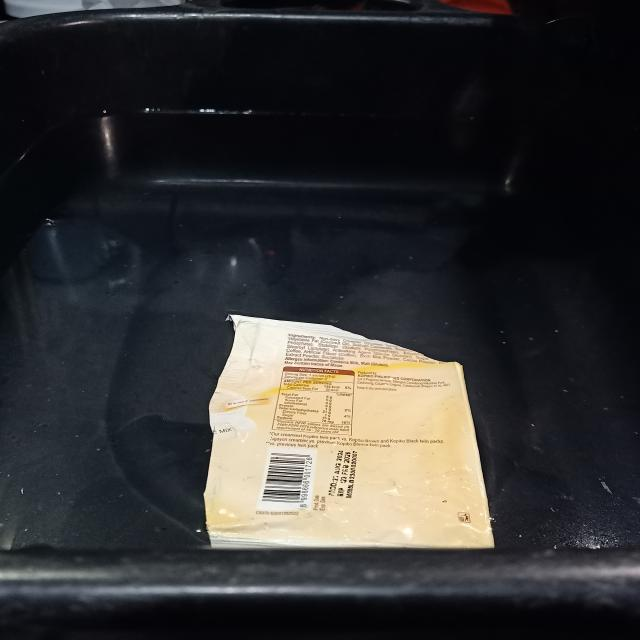Plastic Wrapper: (204, 315, 494, 548)
